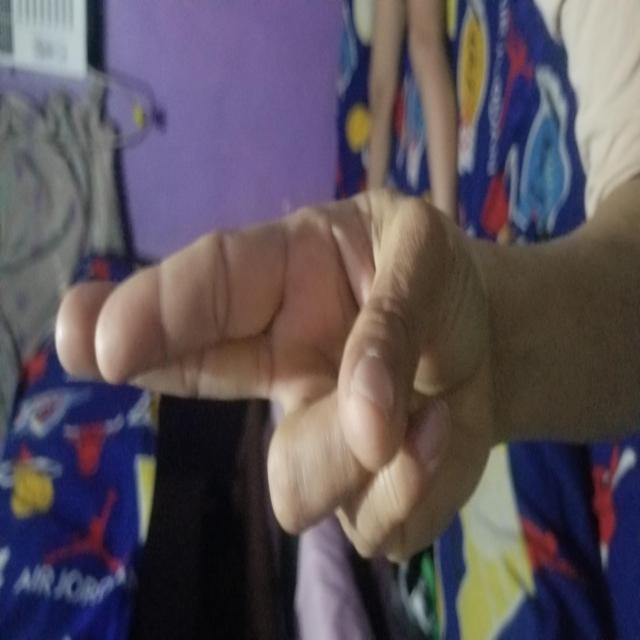R: (77, 56, 454, 494)
